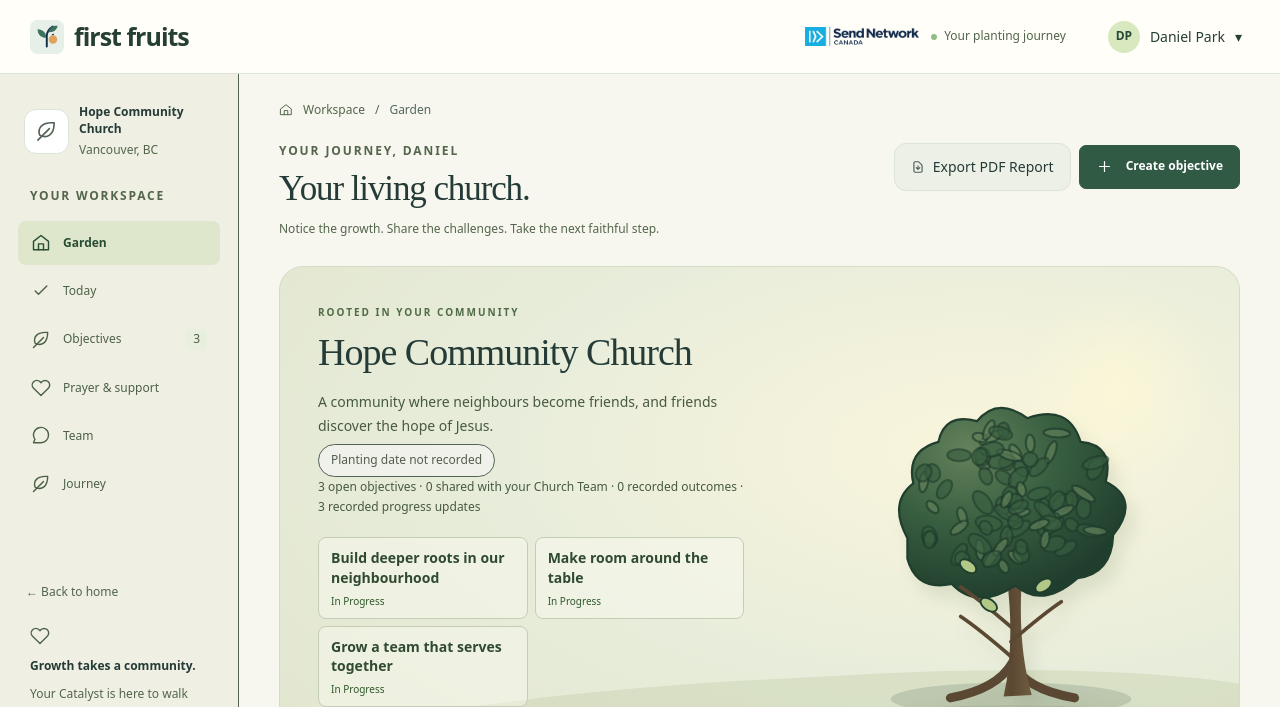
it: objective drafts › retains a failed-save draft after dismissing and reopening
The image size is (1280, 707).
Click the button "Create objective" at (1159, 167), box [1079, 145, 1240, 189]
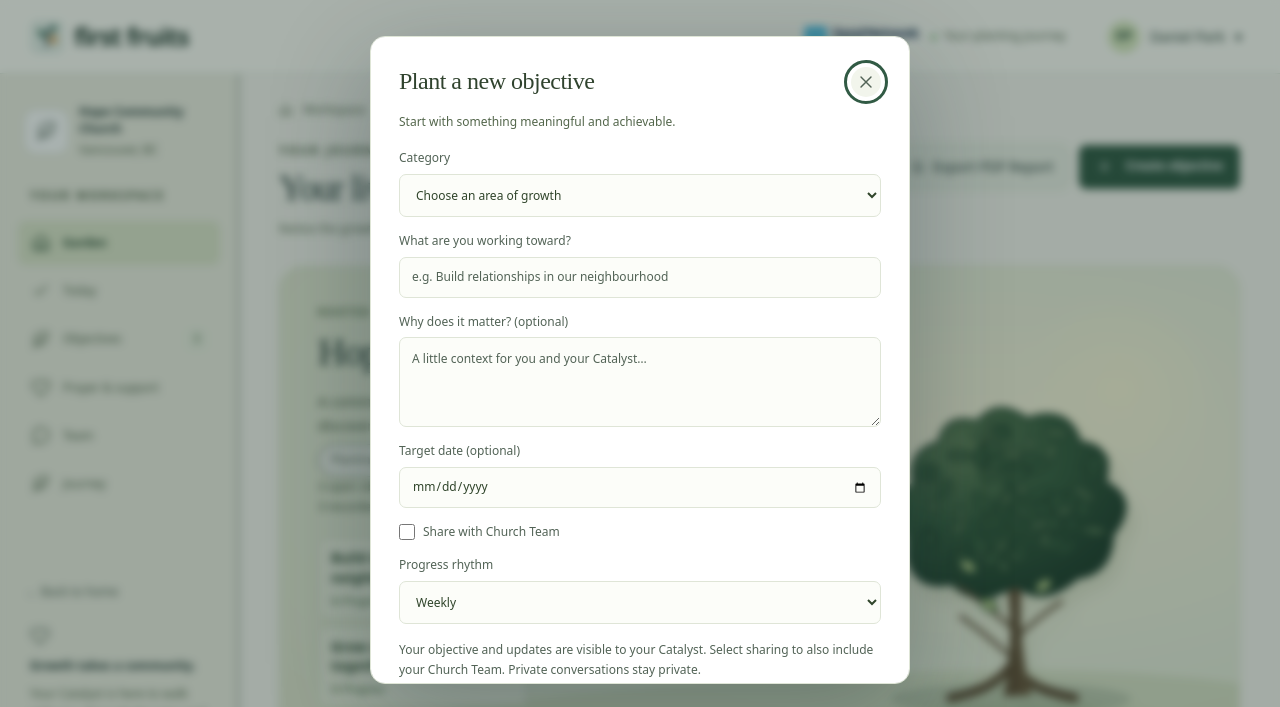
Type "Keep me" into the field labelled "What are you working toward?" at (640, 277), box [399, 257, 881, 298]
(page scrolled)
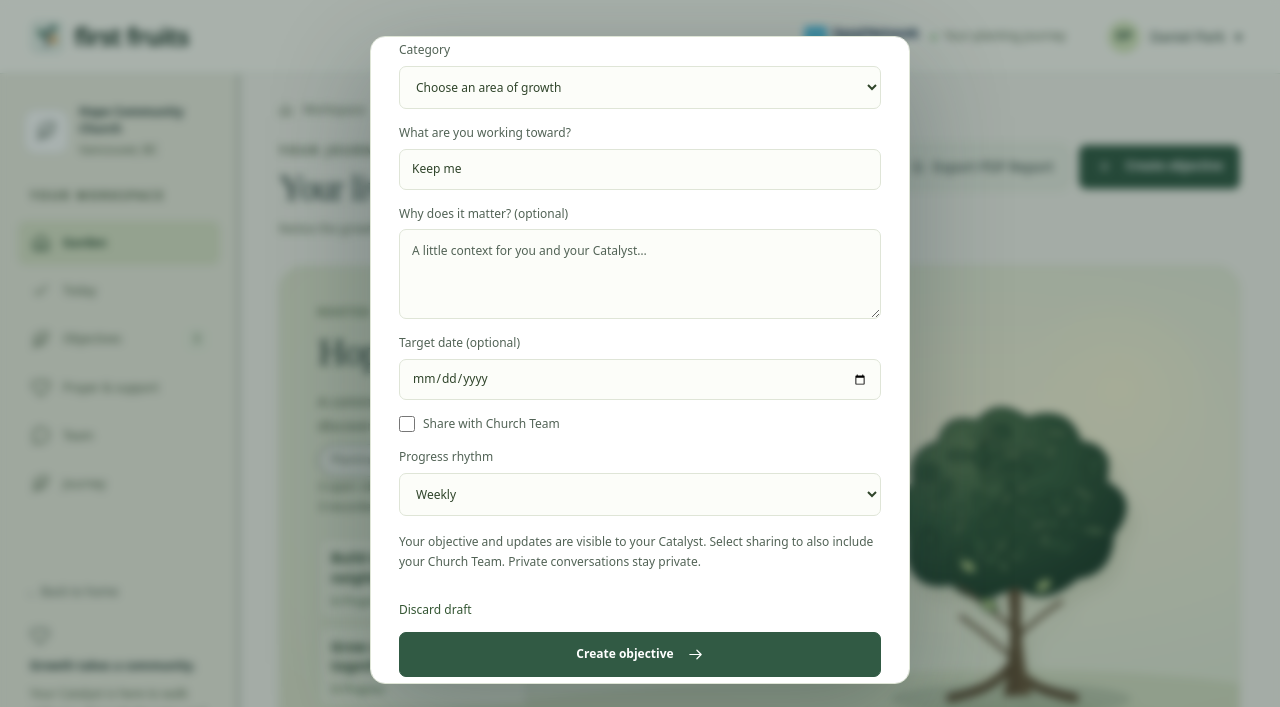
Submit the form labelled "What are you working toward?", box [399, 42, 881, 677]
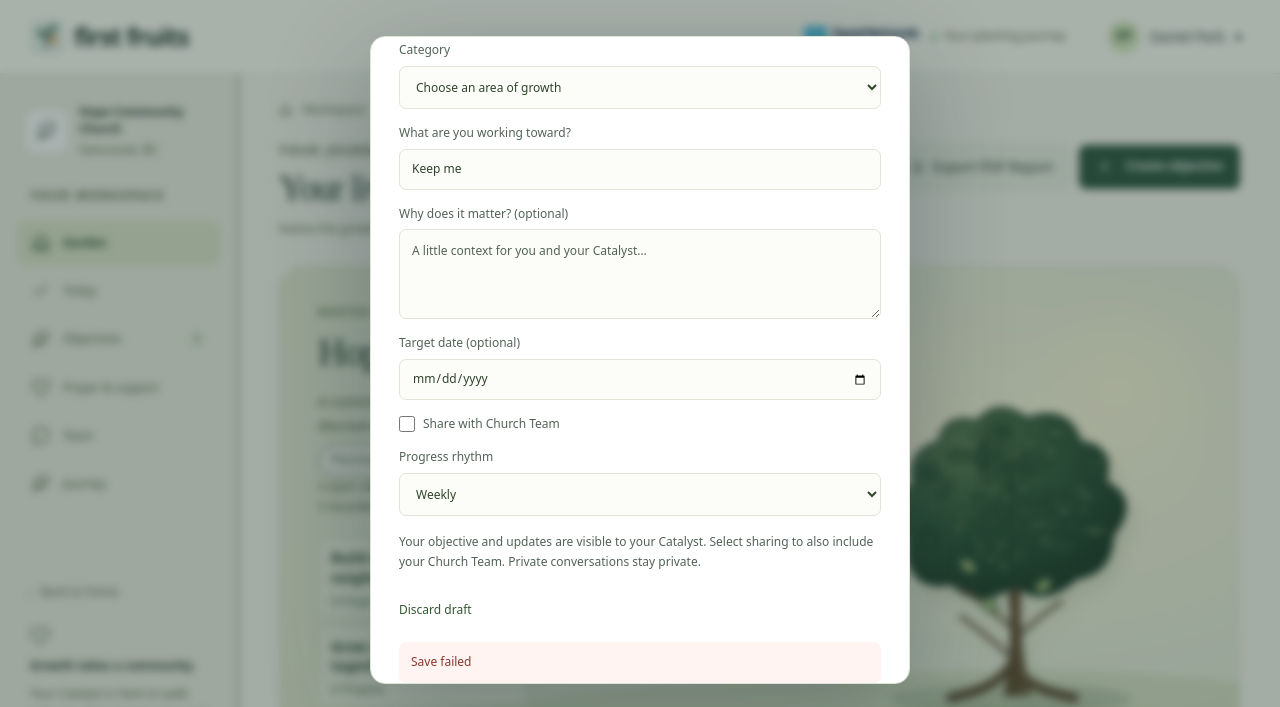
expect the message reads "Save failed": met, box [411, 653, 472, 670]
Click the dialog at (392, 62), box [370, 36, 910, 684]
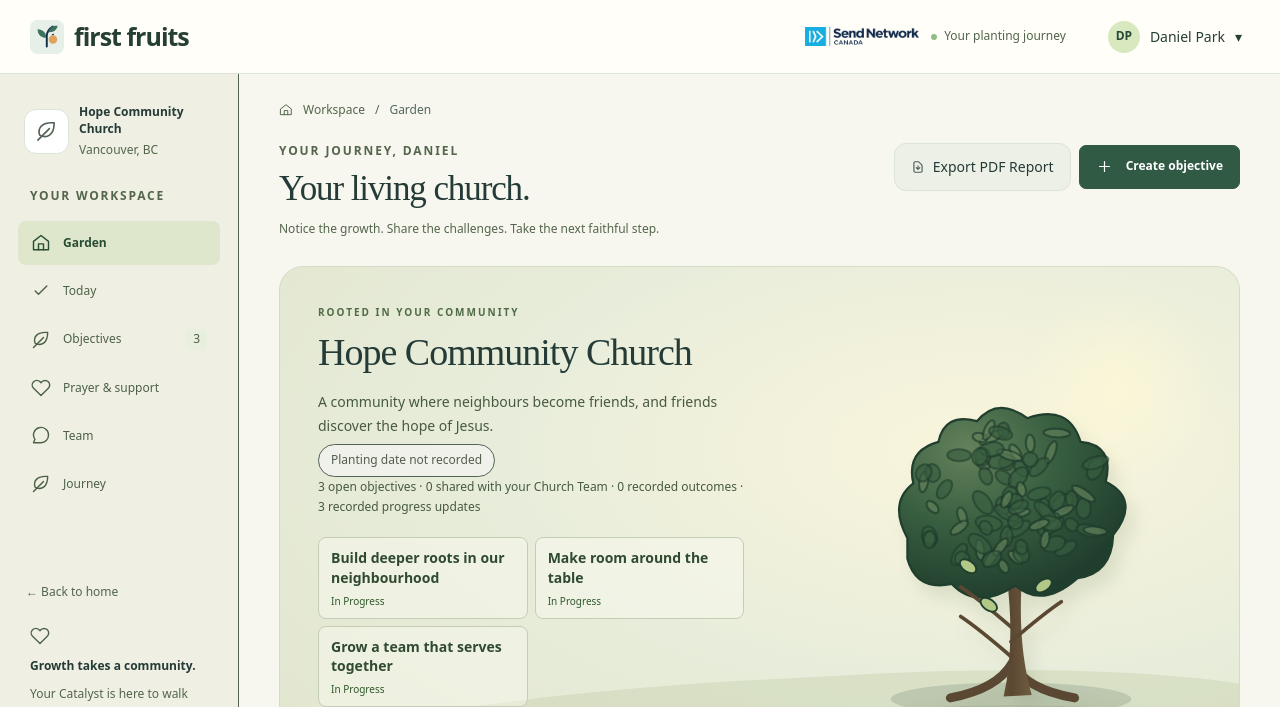
Click the button "Create objective" at (1159, 167), box [1079, 145, 1240, 189]
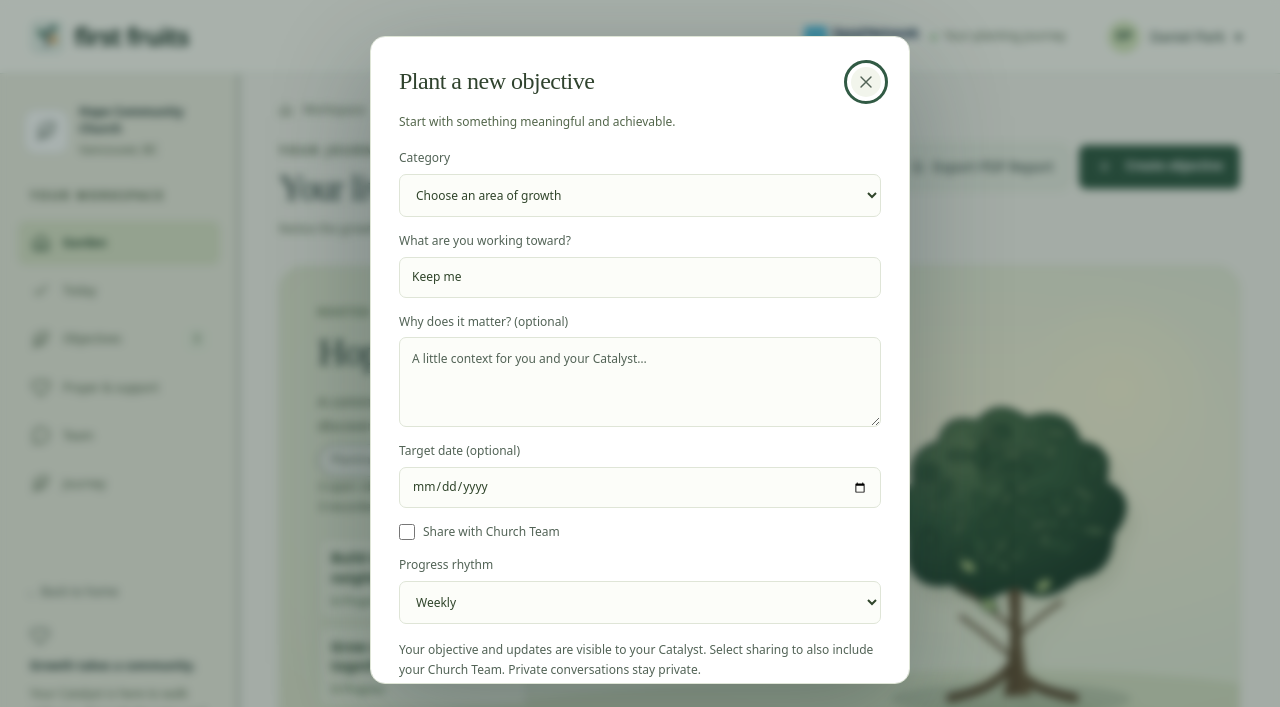
expect the field labelled "What are you working toward?" holds "Keep me": met, box [399, 257, 881, 298]
